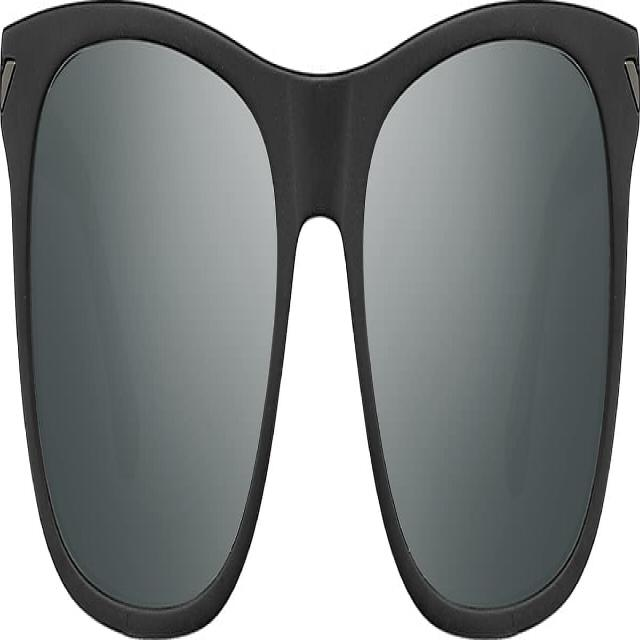suspicious-objects: (3, 8, 638, 626)
